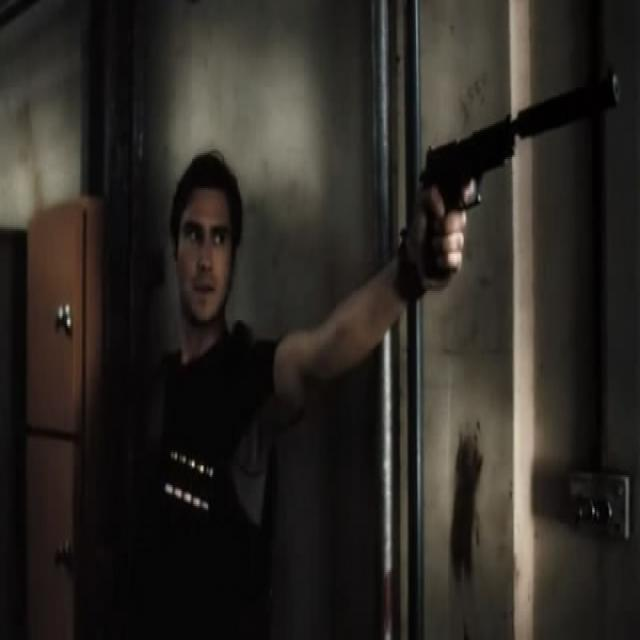weapons: (420, 50, 624, 289)
